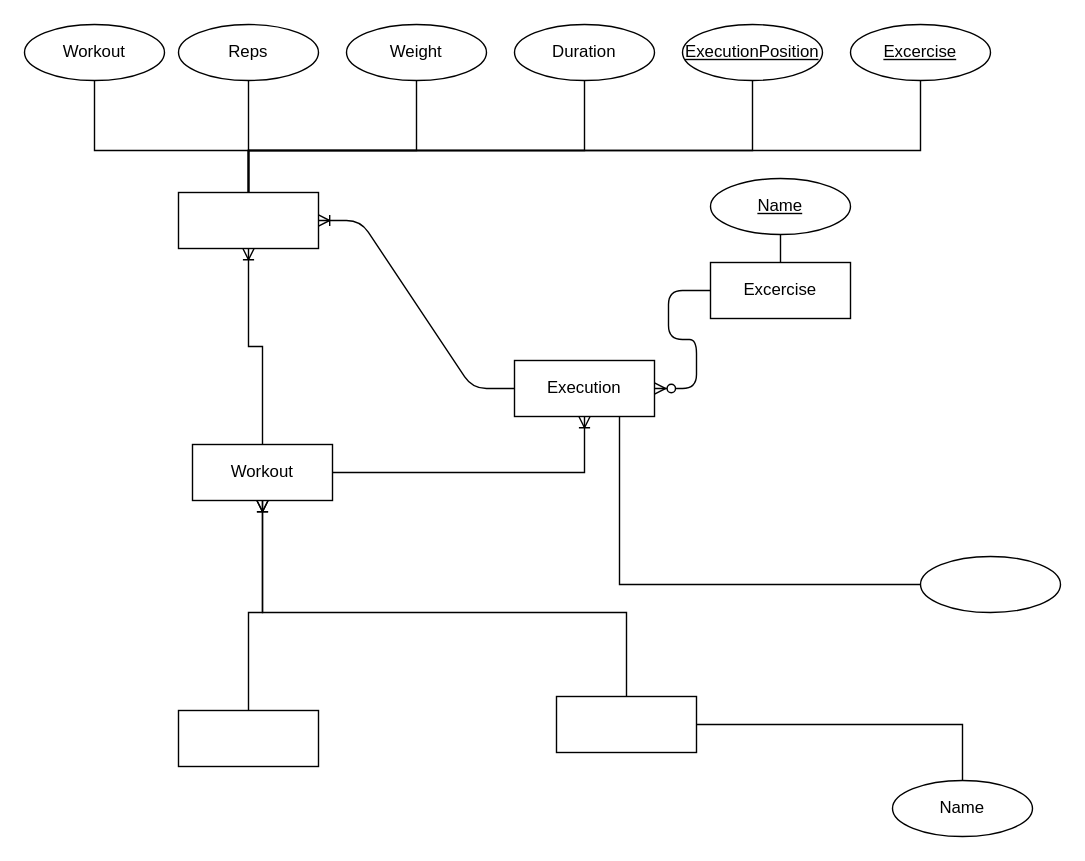
Image size: 1085x861. Some labels were removed from this diagram. The shapes that lost their labels are listed below. From the top down, each one's box as (x1, y1, x2, y2) in pixels, then its label:
(177, 191, 318, 248): Set
(919, 555, 1060, 612): ID
(177, 709, 318, 766): WorkoutPlan
(555, 695, 696, 752): Location
